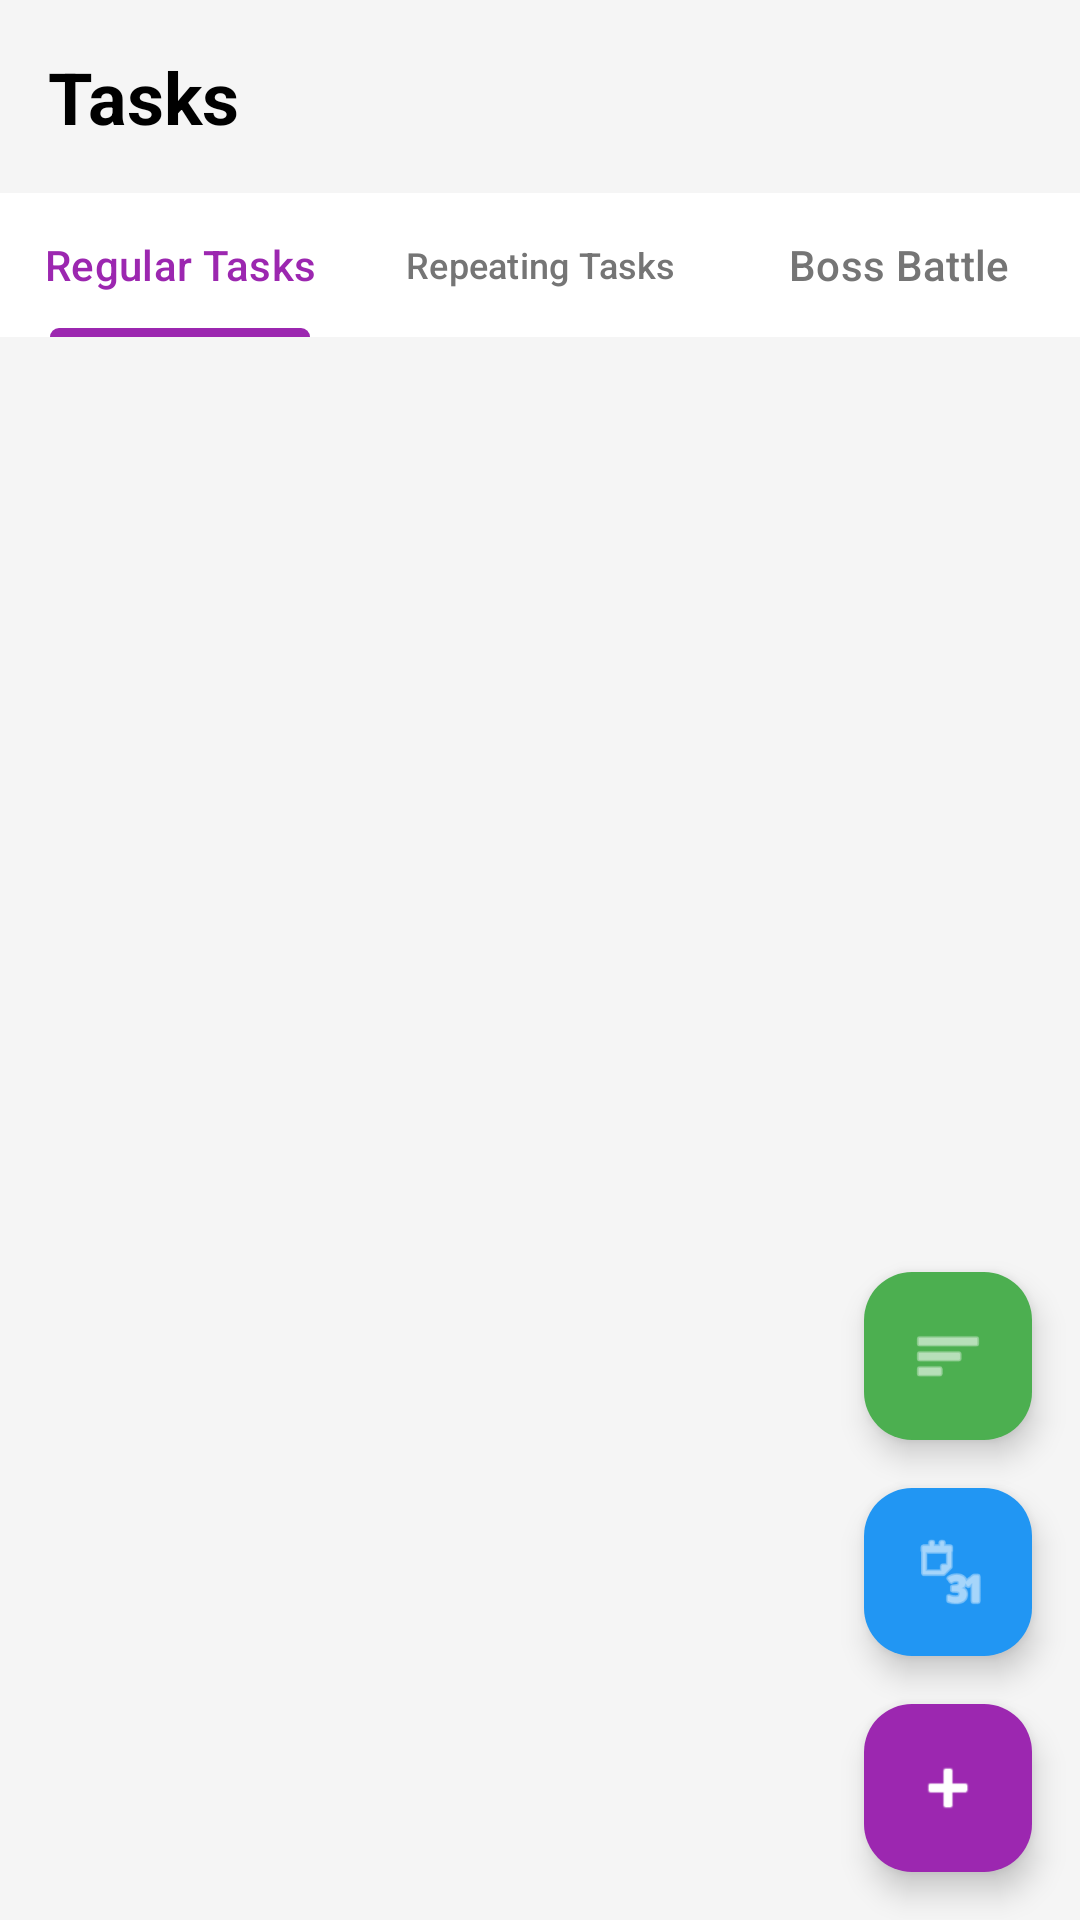

Screen size 1080px x 1920px. Icon name, then its center in pixels as [x,y]:
Add task: [948,1788]
Open calendar: [948,1572]
View categories: [948,1356]
